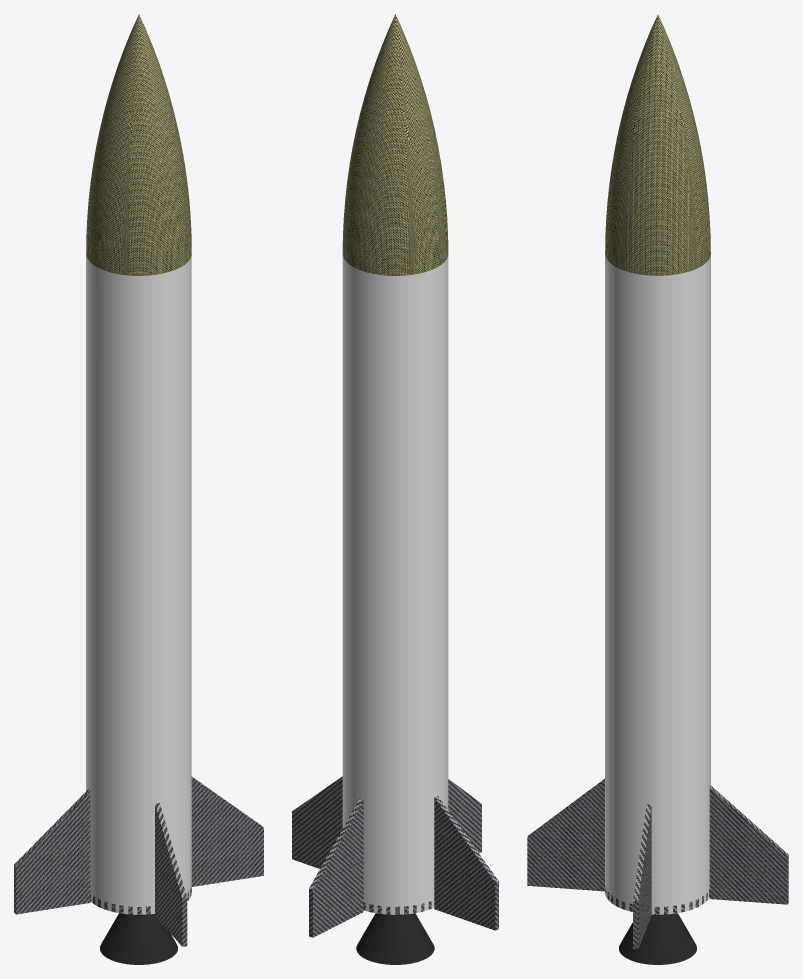
File: rocket.glb
The picture shows the model from 3 angles, left to right: view 1: azimuth 30°, elevation 25°; view 2: azimuth 150°, elevation 25°; view 3: azimuth 270°, elevation 25°; orthographic projection.
Visible parts, largest first — view 1: Main Body Tube-1, Nose Cone-1, Fins-1, Tail Section-1; view 2: Main Body Tube-1, Nose Cone-1, Fins-1, Tail Section-1; view 3: Main Body Tube-1, Nose Cone-1, Fins-1, Tail Section-1.
Boxes of the visible parts, <box> form: Main Body Tube-1: <box>86,253,191,914</box>; Nose Cone-1: <box>86,14,191,275</box>; Fins-1: <box>14,776,263,946</box>; Tail Section-1: <box>100,913,177,964</box>; Main Body Tube-1: <box>342,255,448,914</box>; Nose Cone-1: <box>342,14,448,275</box>; Fins-1: <box>292,776,498,937</box>; Tail Section-1: <box>356,913,434,964</box>; Main Body Tube-1: <box>605,254,710,914</box>; Nose Cone-1: <box>605,14,710,275</box>; Fins-1: <box>527,778,788,949</box>; Tail Section-1: <box>619,913,696,964</box>.
Bounding box in the file's own units: 0.1484 × 0.585 × 0.1484.
7 materials, 2 textured.
